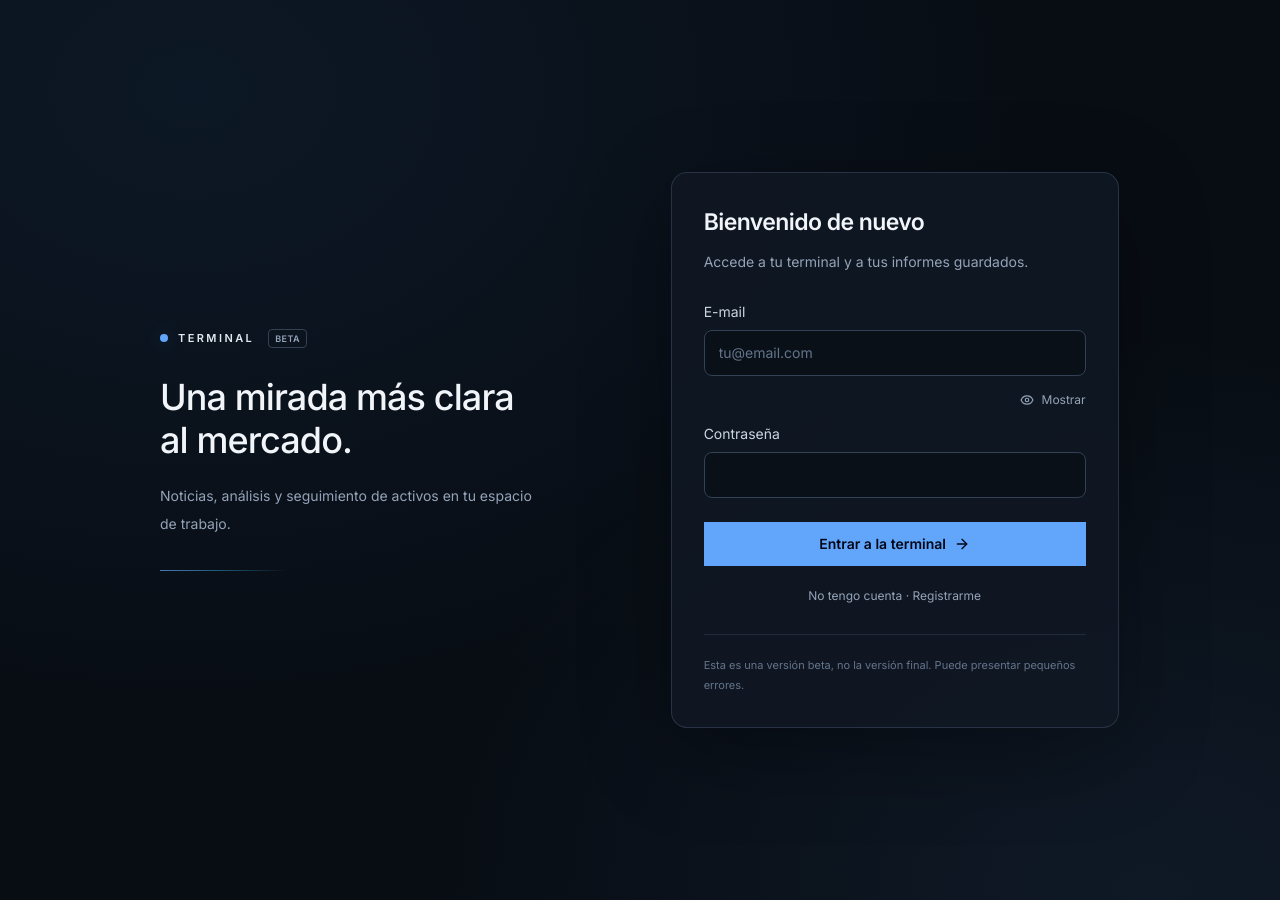
Test: recovers the submit button after a network failure
Expected: the button "Entrar a la terminal" is shown, 704,522 -> 1086,566
Type "person@example.com" into the field labelled "E-mail" at (895, 353), box 704,330 -> 1086,376
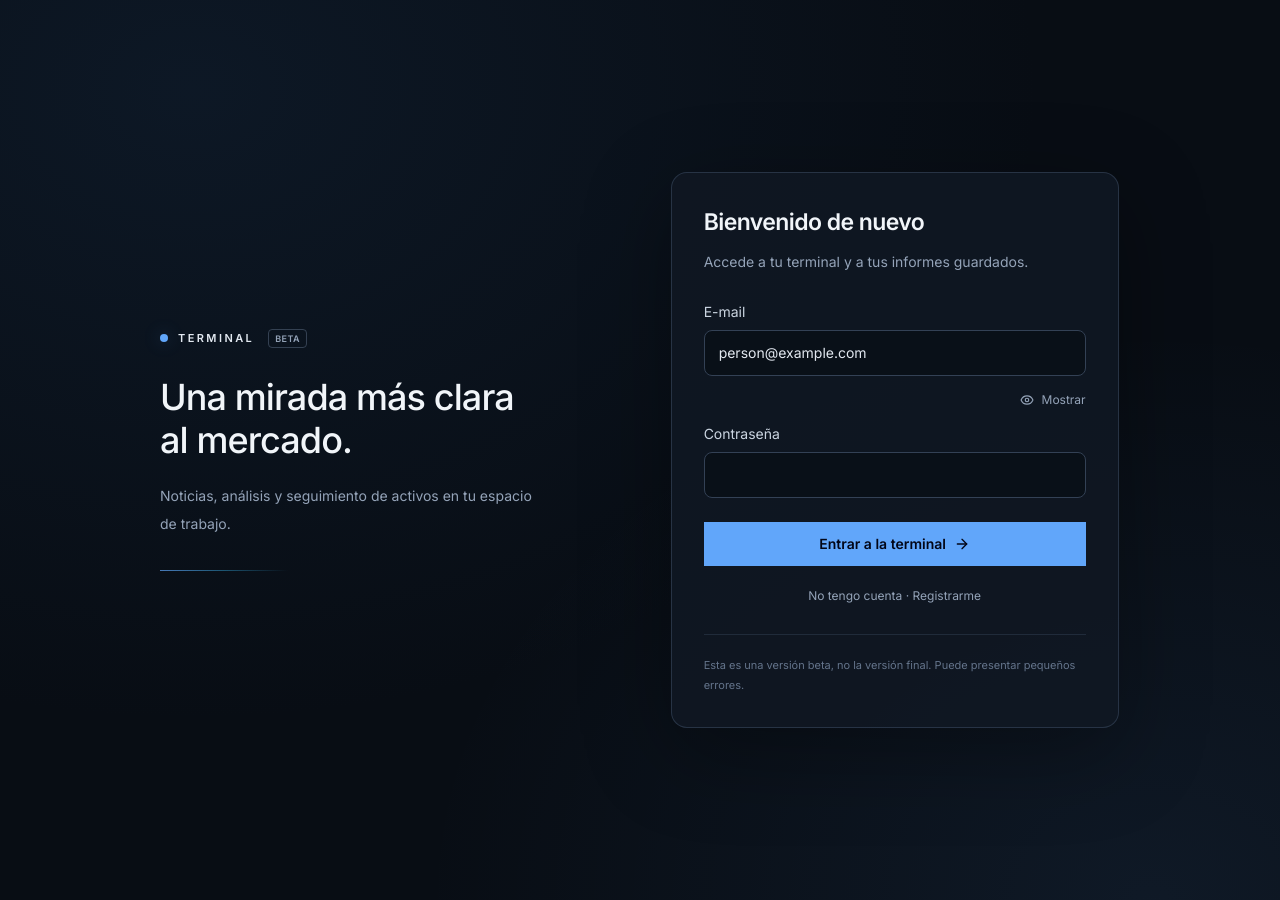
Type "long-password-123" into the password field labelled "Contraseña" at (895, 475), box 704,452 -> 1086,498
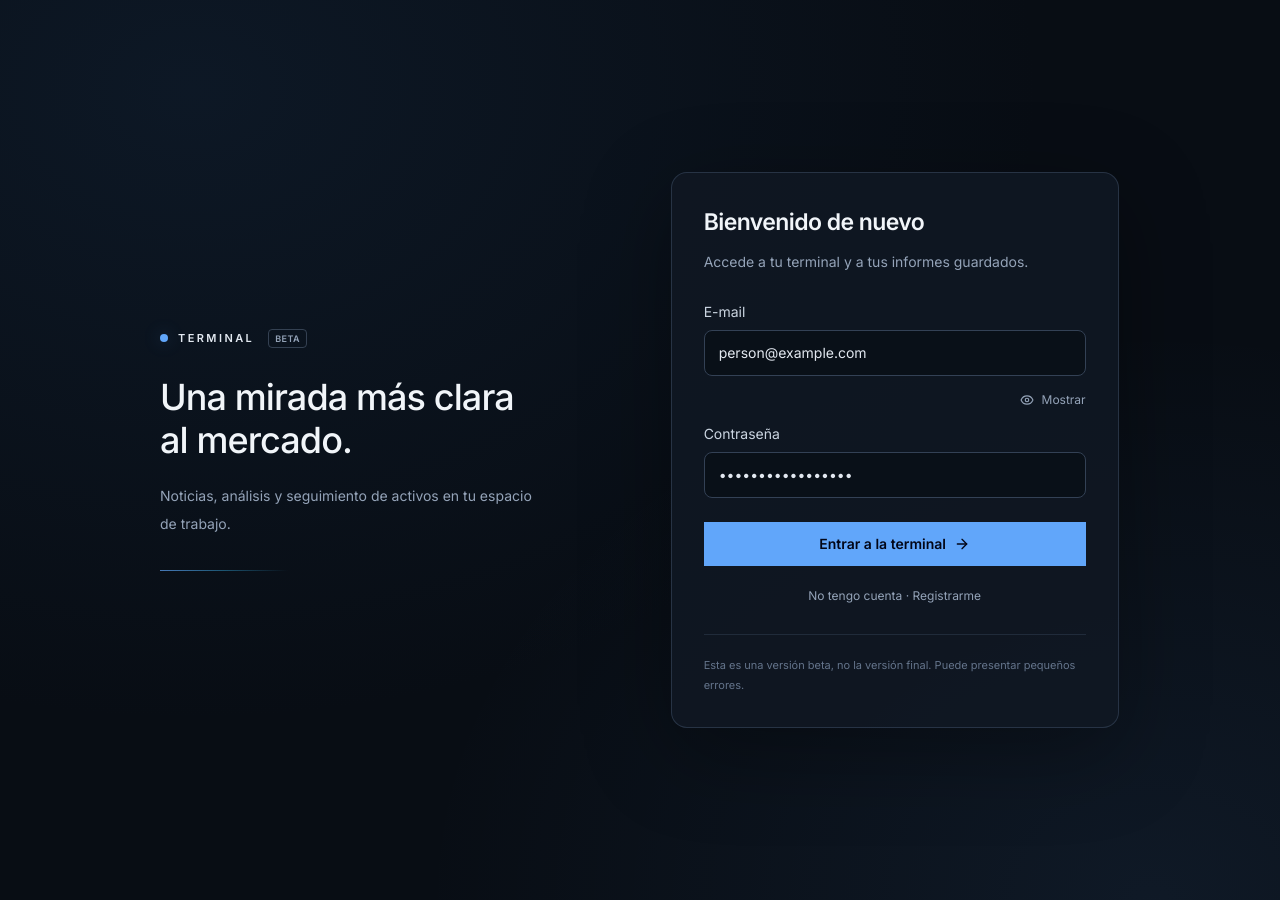
Click the button "Entrar a la terminal" at (895, 544), box 704,522 -> 1086,566
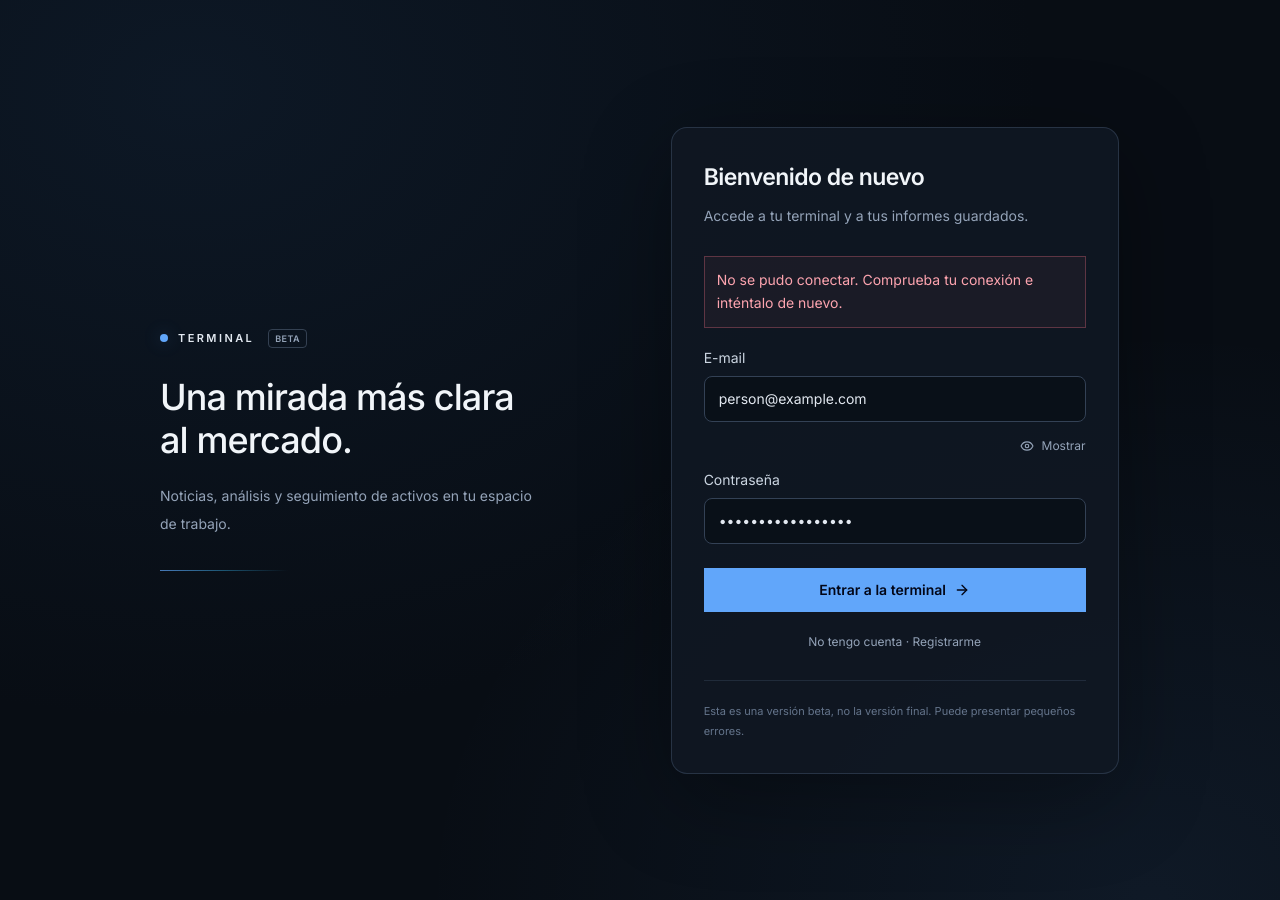
Expected: the button "Entrar a la terminal" is enabled, 704,568 -> 1086,612
Expected: the message shows "No se pudo conectar", 717,271 -> 1033,311
